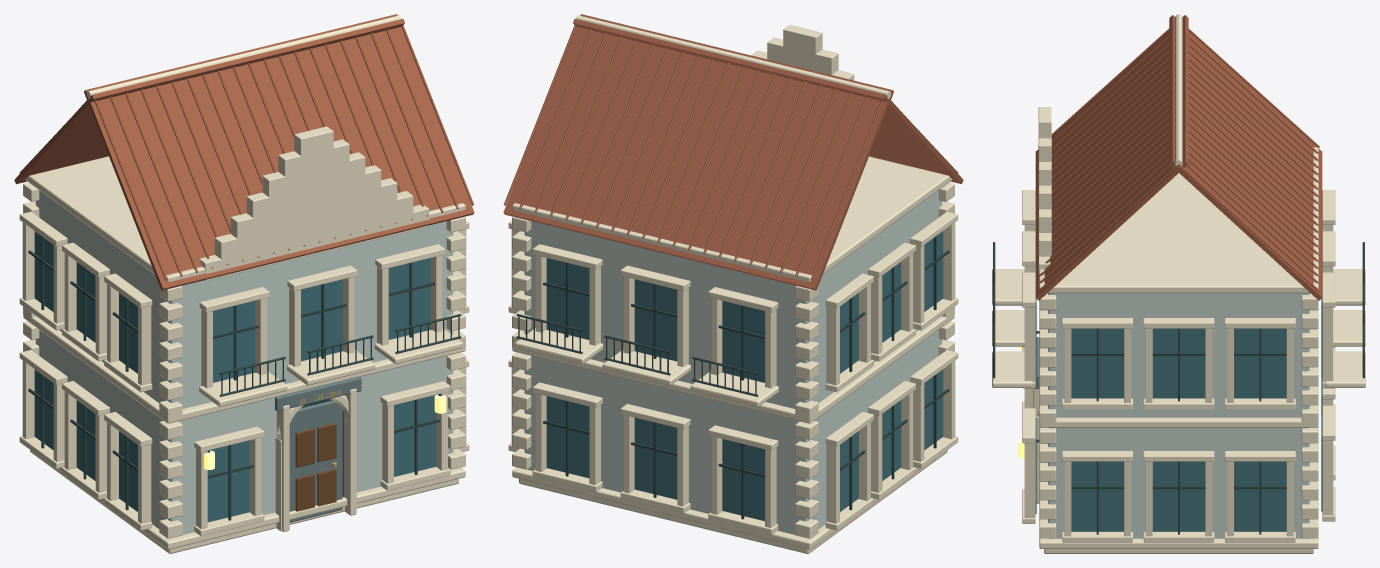
Rendered from estonie-2.glb.
3 views of the same model, side by side, from view 1: azimuth 30°, elevation 25°; view 2: azimuth 150°, elevation 25°; view 3: azimuth 270°, elevation 25° (orthographic). The views are drawn at different scales.
Parts seen in each view (by area): view 1: estonie-2_Dressed stone.001, estonie-2_Regional roof.001, estonie-2_Masonry plaster.001, estonie-2_Window blue, estonie-2_Forged midnight, estonie-2_Regional painted wood.001, estonie-2_Walnut; view 2: estonie-2_Dressed stone.001, estonie-2_Regional roof.001, estonie-2_Masonry plaster.001, estonie-2_Window blue, estonie-2_Forged midnight; view 3: estonie-2_Dressed stone.001, estonie-2_Regional roof.001, estonie-2_Masonry plaster.001, estonie-2_Window blue, estonie-2_Forged midnight.
Boxes of the visible parts, x1=… form: estonie-2_Dressed stone.001: x1=19, y1=15, x2=469, y2=553; estonie-2_Regional roof.001: x1=14, y1=14, x2=474, y2=290; estonie-2_Masonry plaster.001: x1=35, y1=190, x2=453, y2=534; estonie-2_Window blue: x1=34, y1=231, x2=436, y2=522; estonie-2_Forged midnight: x1=28, y1=236, x2=461, y2=520; estonie-2_Regional painted wood.001: x1=275, y1=376, x2=361, y2=522; estonie-2_Walnut: x1=295, y1=423, x2=336, y2=511; estonie-2_Dressed stone.001: x1=508, y1=15, x2=958, y2=553; estonie-2_Regional roof.001: x1=503, y1=14, x2=963, y2=290; estonie-2_Masonry plaster.001: x1=524, y1=190, x2=942, y2=534; estonie-2_Window blue: x1=546, y1=231, x2=943, y2=520; estonie-2_Forged midnight: x1=516, y1=236, x2=949, y2=519; estonie-2_Dressed stone.001: x1=992, y1=14, x2=1365, y2=553; estonie-2_Regional roof.001: x1=1035, y1=15, x2=1322, y2=300; estonie-2_Masonry plaster.001: x1=1048, y1=293, x2=1309, y2=538; estonie-2_Window blue: x1=1035, y1=298, x2=1322, y2=531; estonie-2_Forged midnight: x1=993, y1=242, x2=1364, y2=534.
Bounding box in the file's own units: 13.94 × 16.8 × 14.25.
